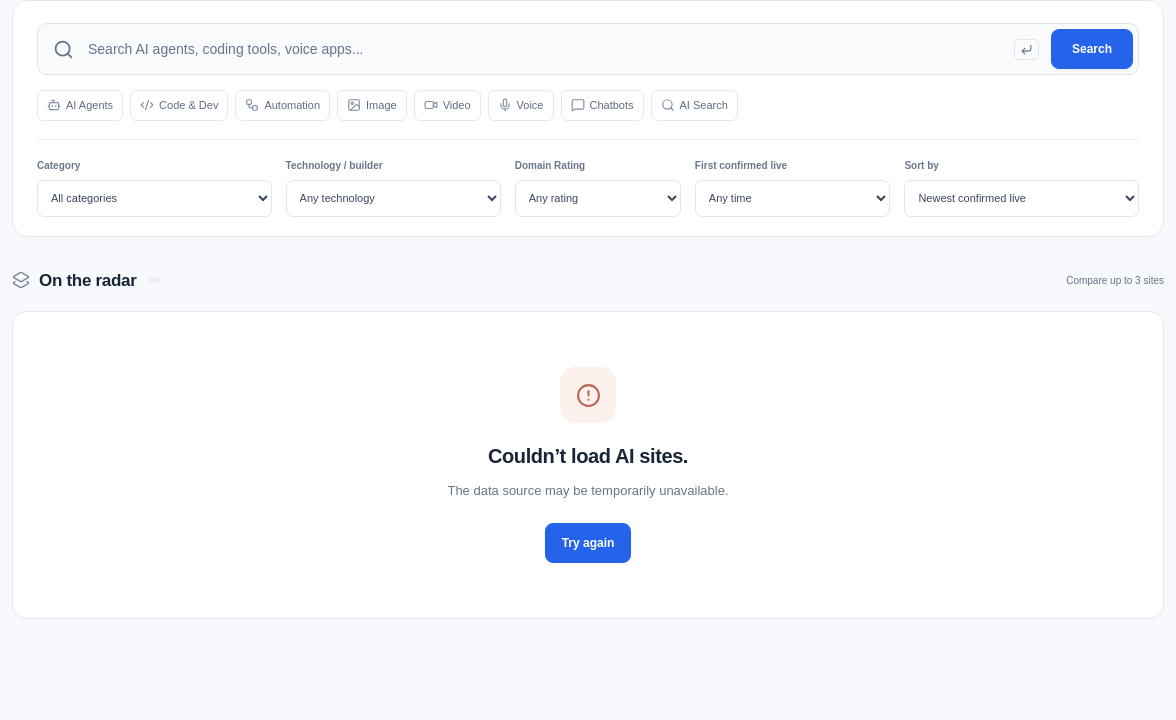
Scenario: discovery interactions › retries a friendly API error
Expected: the message that starts with "Couldn’t load AI sites." is shown, [488,445,688,467]
Step 1. Click the button "Try again" → click(588, 542), box [545,522,631,562]
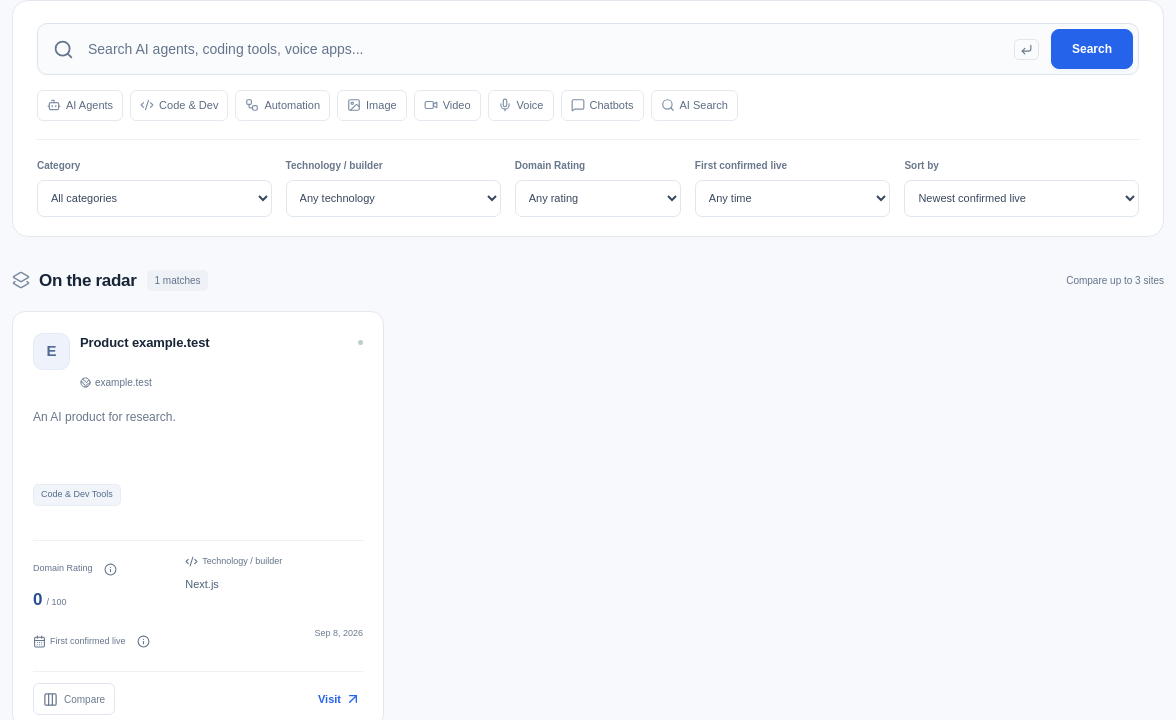
Expected: the heading "Product example.test" is shown, [80,335,210,350]
